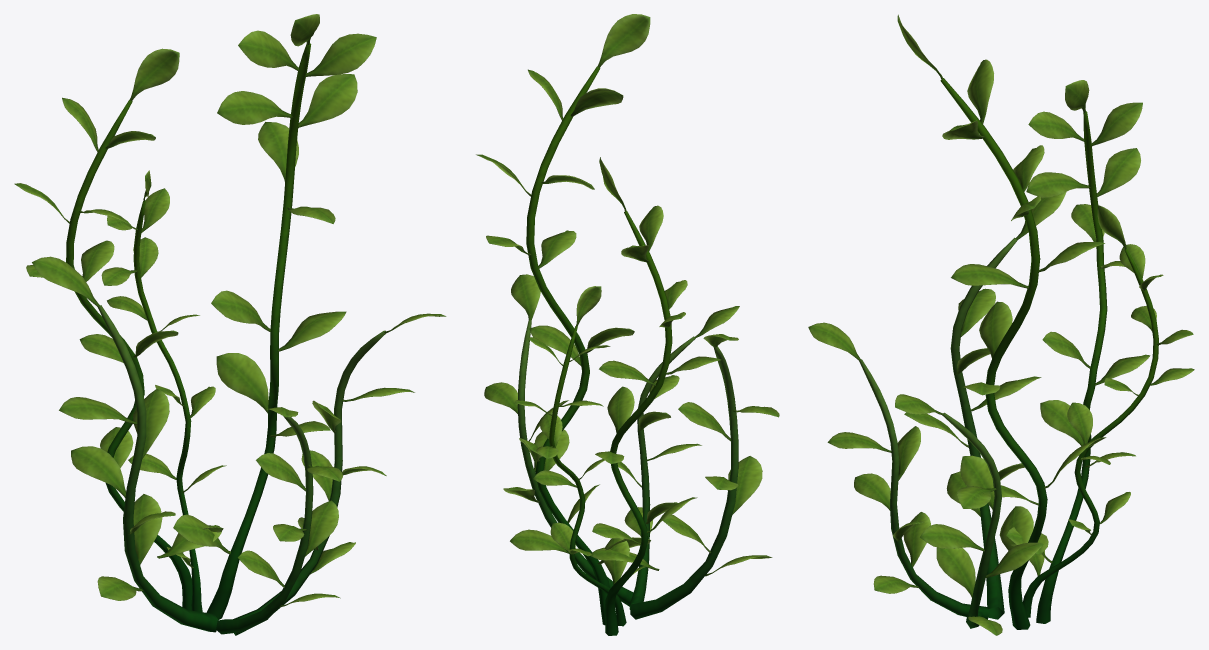
File: Cartoon Seaweed_10_6.FBX
3 views of the same model, side by side, from view 1: azimuth 30°, elevation 25°; view 2: azimuth 150°, elevation 25°; view 3: azimuth 270°, elevation 25° (orthographic). The views are drawn at different scales.
Parts seen in each view (by area): view 1: Cartoon Seaweed 10.6; view 2: Cartoon Seaweed 10.6; view 3: Cartoon Seaweed 10.6.
Part boxes in pixels (x1,y1,x2,y2): Cartoon Seaweed 10.6: (14, 14, 446, 635); Cartoon Seaweed 10.6: (476, 14, 779, 635); Cartoon Seaweed 10.6: (808, 14, 1194, 635).
Bounding box in the file's own units: 13.84 × 24.58 × 13.82.
